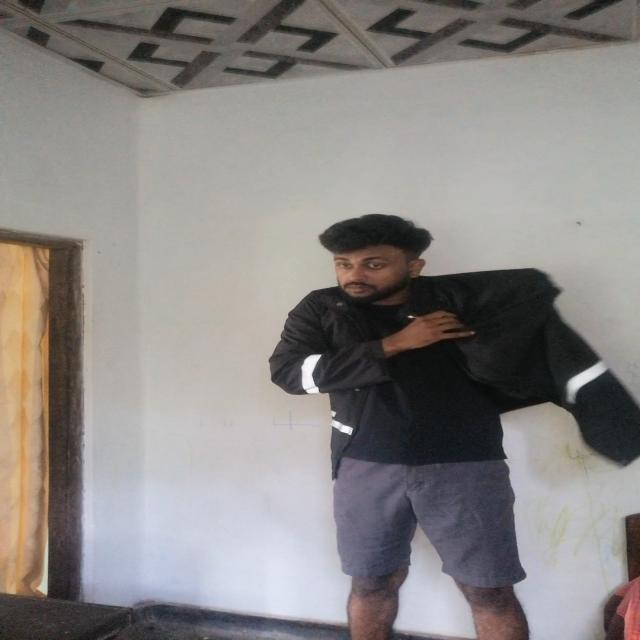Jacket_Wearer: (268, 264, 640, 482)
